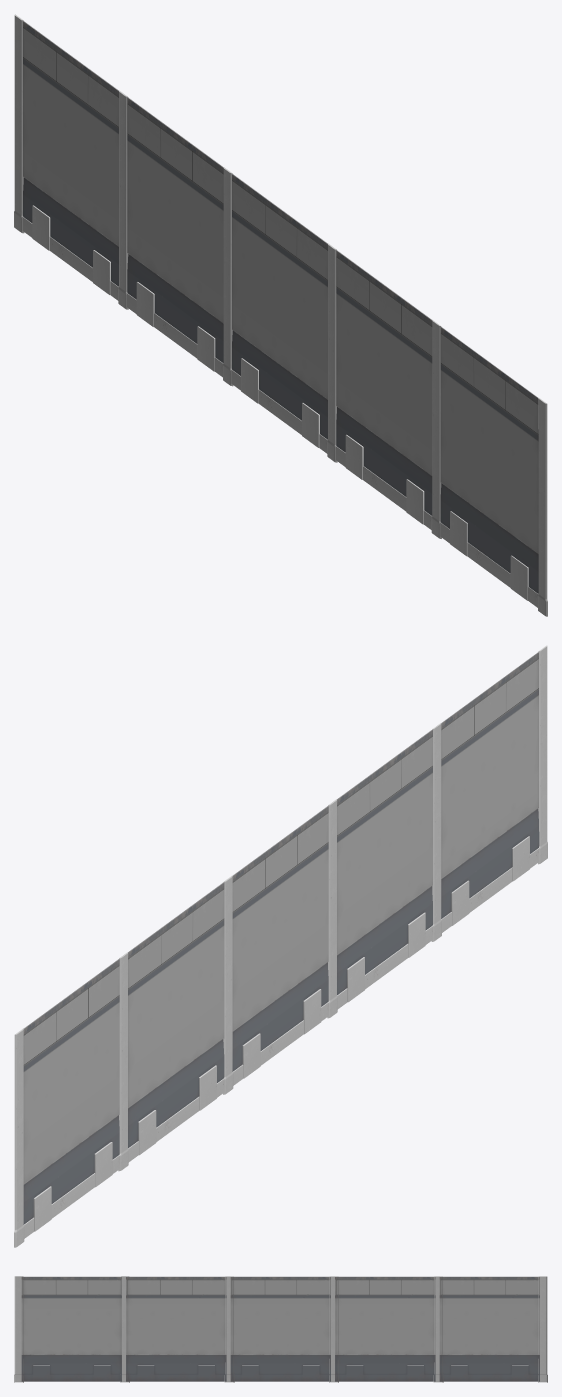
File: Pfb_JALB_WallPart2_Line__6.fbx
3 renders of one model, top to bottom at view 1: azimuth 30°, elevation 25°; view 2: azimuth 150°, elevation 25°; view 3: azimuth 270°, elevation 25°, orthographic. The views are drawn at different scales.
Parts seen in each view (by area): view 1: MAT_JLABWall; view 2: MAT_JLABWall; view 3: MAT_JLABWall.
Part boxes in pixels (left/top/right/bottom): MAT_JLABWall: left=14, top=14, right=547, bottom=616; MAT_JLABWall: left=14, top=645, right=547, bottom=1247; MAT_JLABWall: left=14, top=1276, right=547, bottom=1382.
Size of the model in its own units: 0.0432 by 4.04 by 18.4.
Materials: 1 (1 with a texture image).
